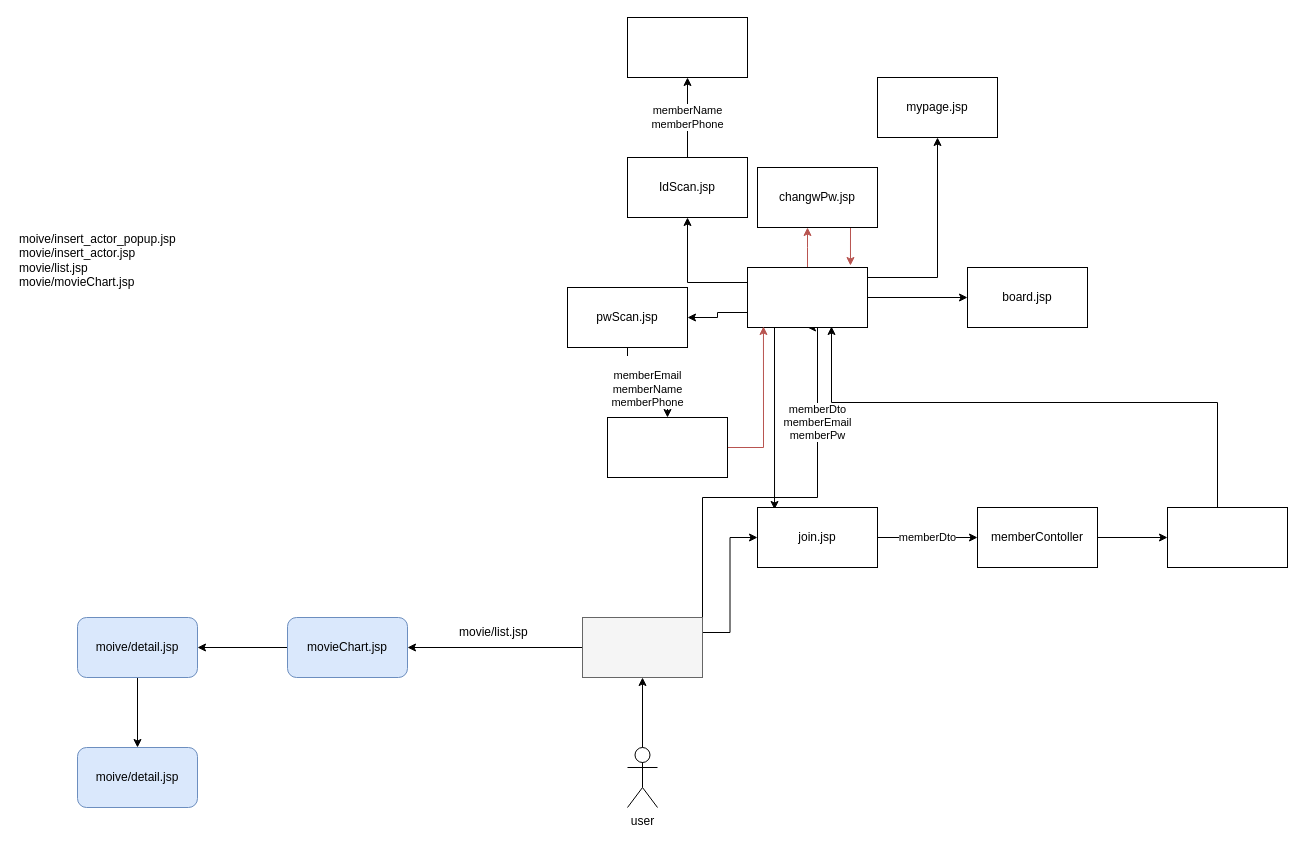
Image size: 1305x846. Some labels were removed from this diagram. The shapes that lost their labels are listed below. From the top down, each one's centre as x and y in pixels, then its label:
pixel 687 47: IdScan_success.jsp
pixel 807 297: login.jsp
pixel 667 447: pwScan_success.jsp
pixel 1227 537: join_success.jsp
pixel 642 647: home.jsp 메인페이지
